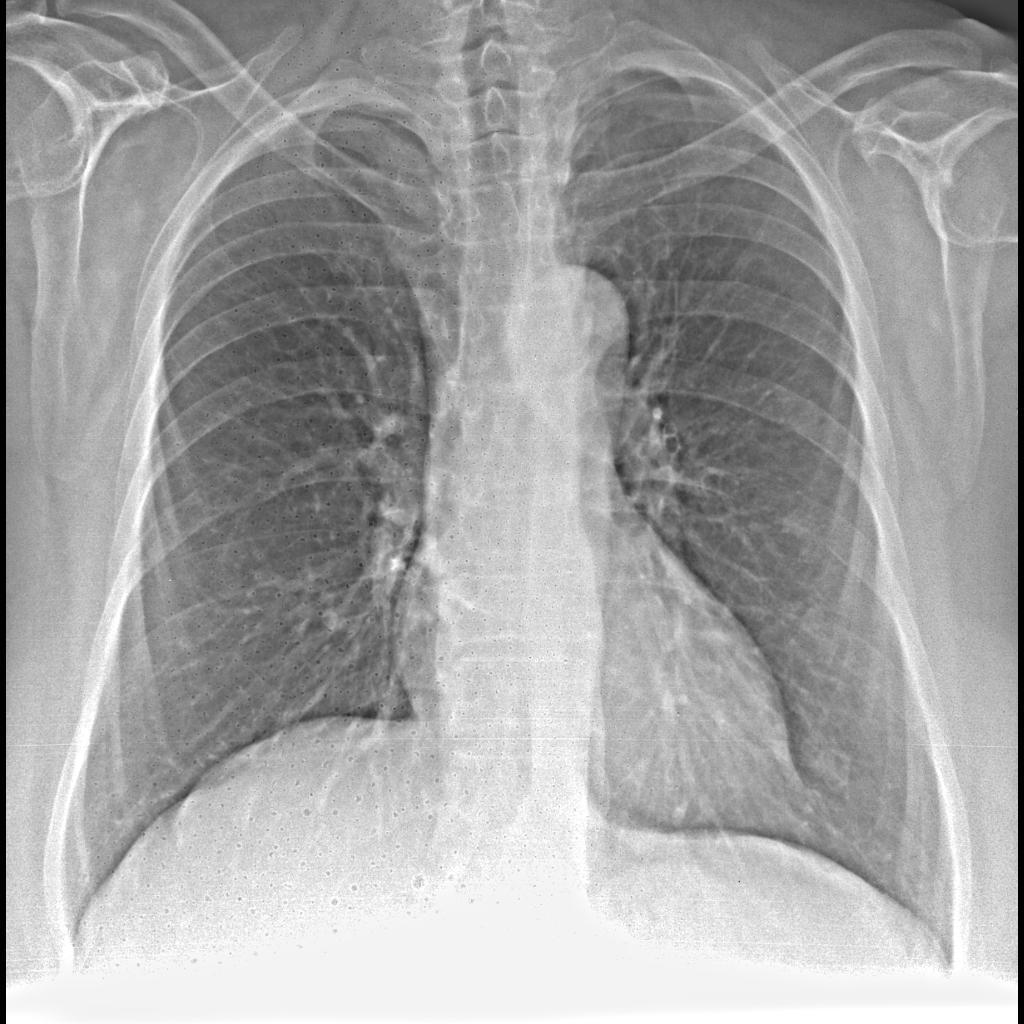Nodule: (777, 503, 821, 547)
